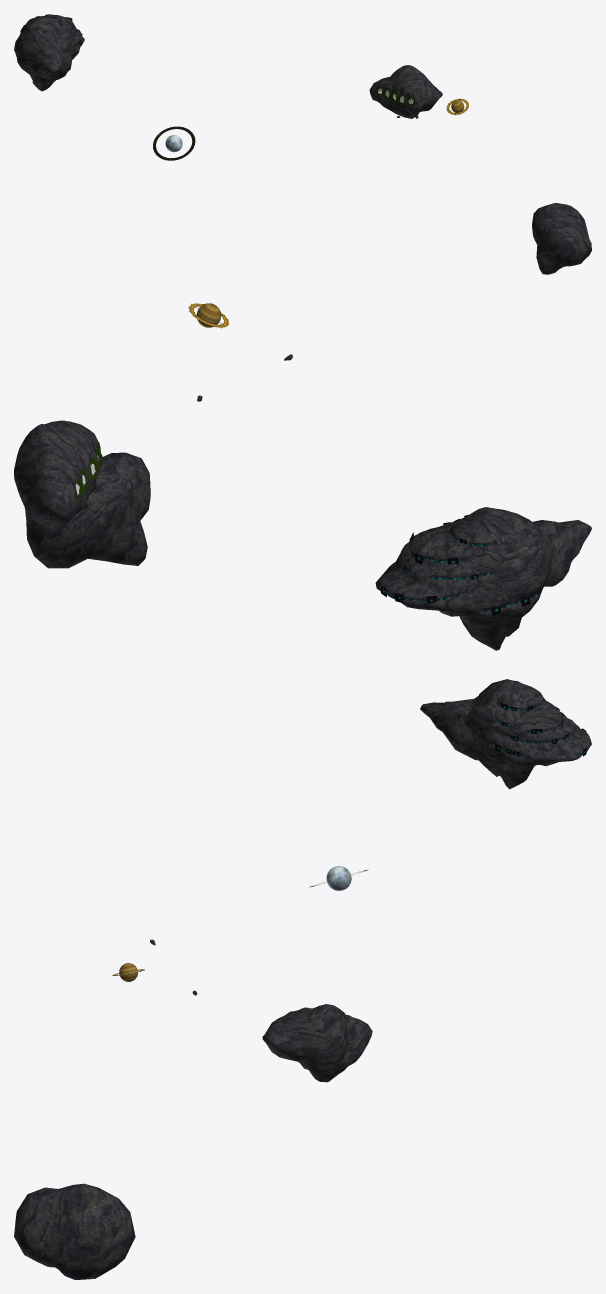
File: stg610_13.obj
3 renders of one model, top to bottom at view 1: azimuth 30°, elevation 25°; view 2: azimuth 150°, elevation 25°; view 3: azimuth 270°, elevation 25°, orthographic. The views are drawn at different scales.
Visible parts, largest first — view 1: polygon13, polygon12, polygon20, polygon17; view 2: polygon13, polygon12, polygon20, polygon15, polygon14; view 3: polygon13, polygon12, polygon20.
Boxes of the visible parts, <box> form: polygon13: <box>14,14,84,91</box>; polygon12: <box>532,203,591,274</box>; polygon20: <box>369,65,442,118</box>; polygon17: <box>153,126,195,160</box>; polygon13: <box>375,507,591,650</box>; polygon12: <box>25,452,150,568</box>; polygon20: <box>14,420,102,524</box>; polygon15: <box>380,515,530,615</box>; polygon14: <box>378,535,536,612</box>; polygon13: <box>420,679,591,789</box>; polygon12: <box>14,1183,135,1279</box>; polygon20: <box>262,1004,372,1082</box>.
Size of the model in its own units: 8922 by 4615 by 7336.
19 materials, 19 textured.
